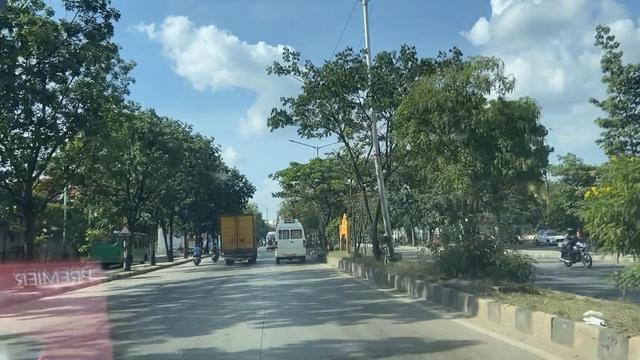HMV: (214, 213, 258, 268), (268, 225, 307, 268)
